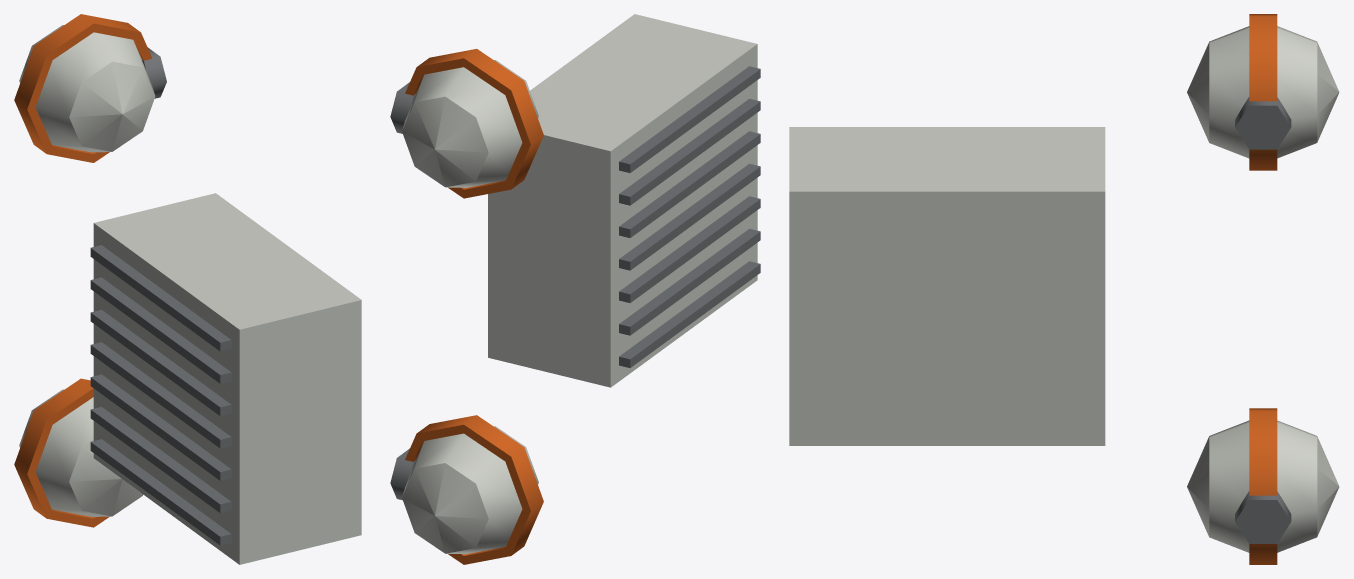
3 renders of one model, left to right at view 1: azimuth 30°, elevation 25°; view 2: azimuth 150°, elevation 25°; view 3: azimuth 270°, elevation 25°, orthographic. The views are drawn at different scales.
Parts seen in each view (by area): view 1: u33_hx; view 2: u33_hx; view 3: u33_hx.
Part boxes in pixels (<box>): u33_hx: <box>14,14,361,564</box>; u33_hx: <box>390,14,760,564</box>; u33_hx: <box>789,14,1339,564</box>.
Size of the model in its own units: 0.515 by 1.72 by 1.57.
